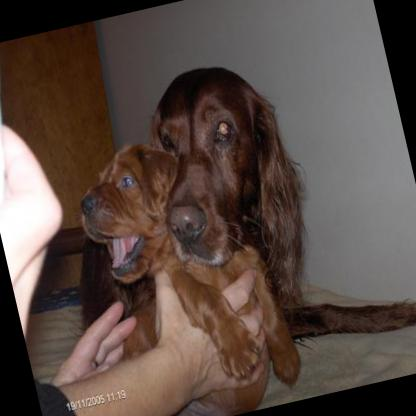Irish_setter: (29, 28, 416, 396)
